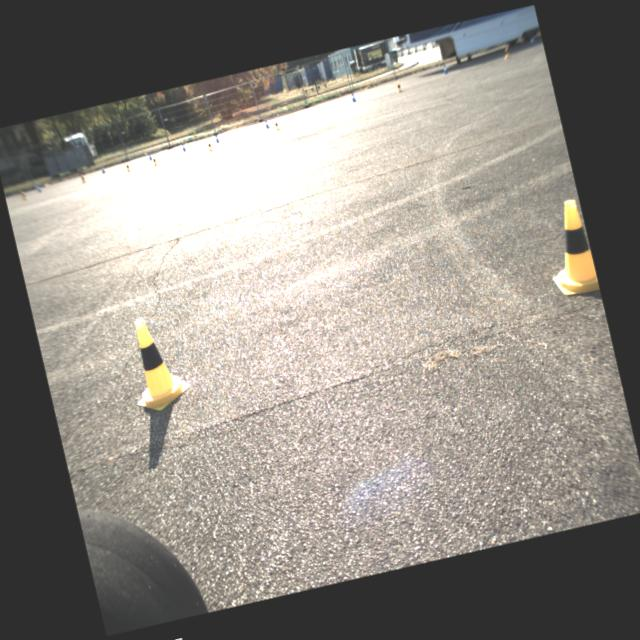blue_cone: (440, 64, 448, 74), (350, 92, 357, 102), (214, 134, 219, 142), (264, 120, 269, 128), (181, 143, 186, 151), (148, 152, 152, 160)
yellow_cone: (119, 311, 196, 415), (534, 195, 600, 302), (394, 80, 402, 92), (124, 161, 130, 172), (274, 120, 280, 130), (152, 156, 158, 166), (207, 142, 212, 152)
